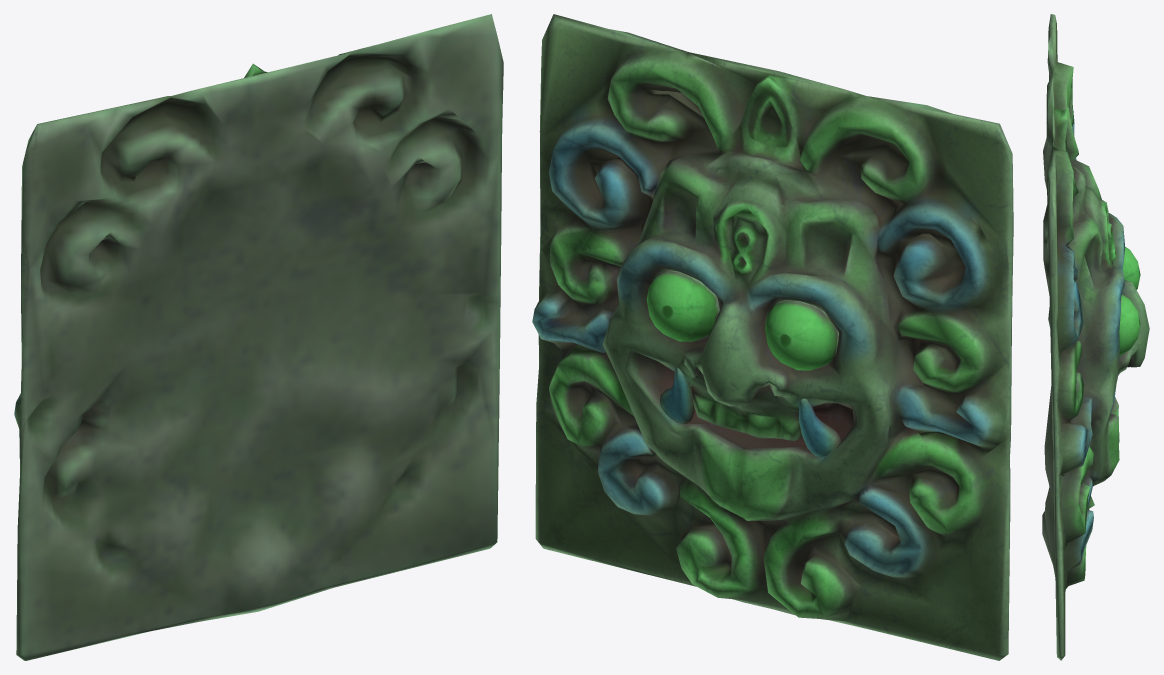
File: joke_head2.obj
3 renders of one model, left to right at view 1: azimuth 30°, elevation 25°; view 2: azimuth 150°, elevation 25°; view 3: azimuth 270°, elevation 25°, orthographic. The views are drawn at different scales.
Visible parts, largest first — view 1: joke_head; view 2: joke_head; view 3: joke_head.
Part boxes in pixels (x1,y1,x2,y2): joke_head: (14,14,503,660); joke_head: (532,14,1013,660); joke_head: (1042,14,1149,660).
Bounding box in the file's own units: 255 × 276 × 58.04.
